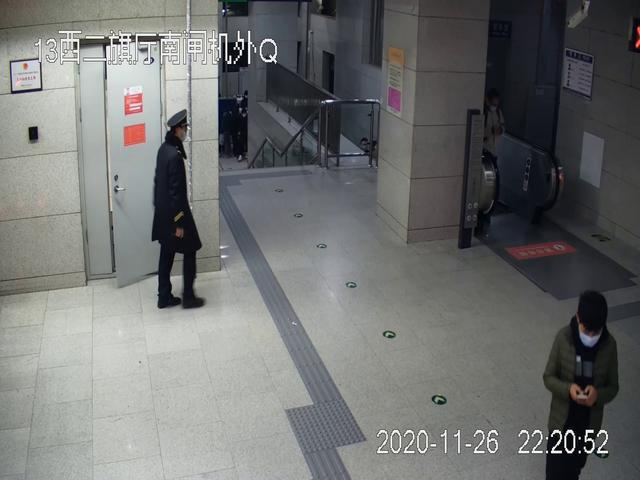person: (543, 292, 619, 480), (150, 107, 207, 310)
